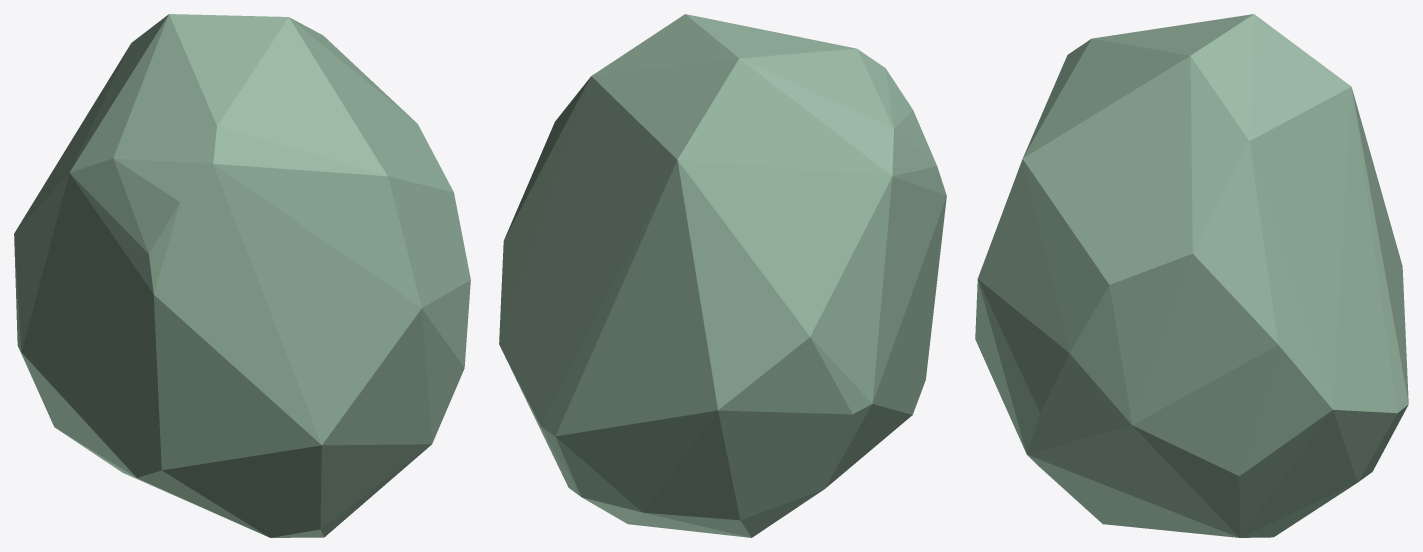
Rendered from food_produce_lime_c01.glb.
3 renders of one model, left to right at view 1: azimuth 30°, elevation 25°; view 2: azimuth 150°, elevation 25°; view 3: azimuth 270°, elevation 25°, orthographic. The views are drawn at different scales.
Visible parts, largest first — view 1: geometry_0; view 2: geometry_0; view 3: geometry_0.
Part boxes in pixels (box(x1,y1,x2,y2)): geometry_0: box(14, 14, 470, 537); geometry_0: box(499, 14, 946, 537); geometry_0: box(975, 14, 1408, 537).
Size of the model in its own units: 0.3486 by 0.441 by 0.3649.
